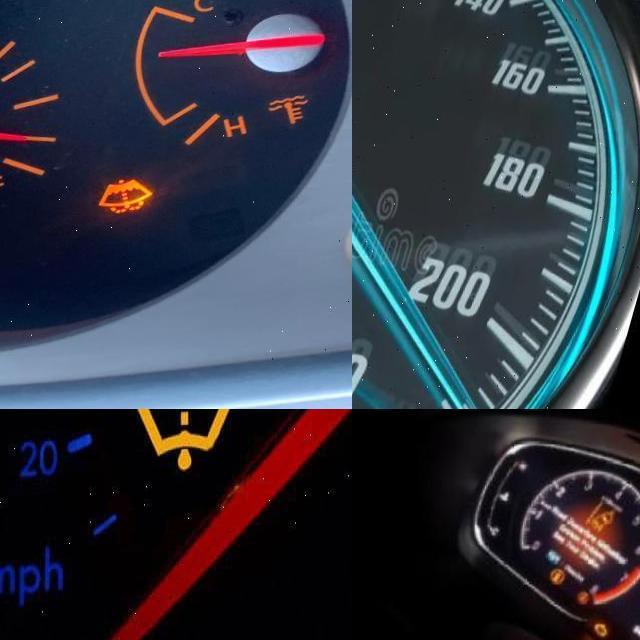Washer Fluid: (133, 409, 238, 476), (95, 178, 154, 218)
